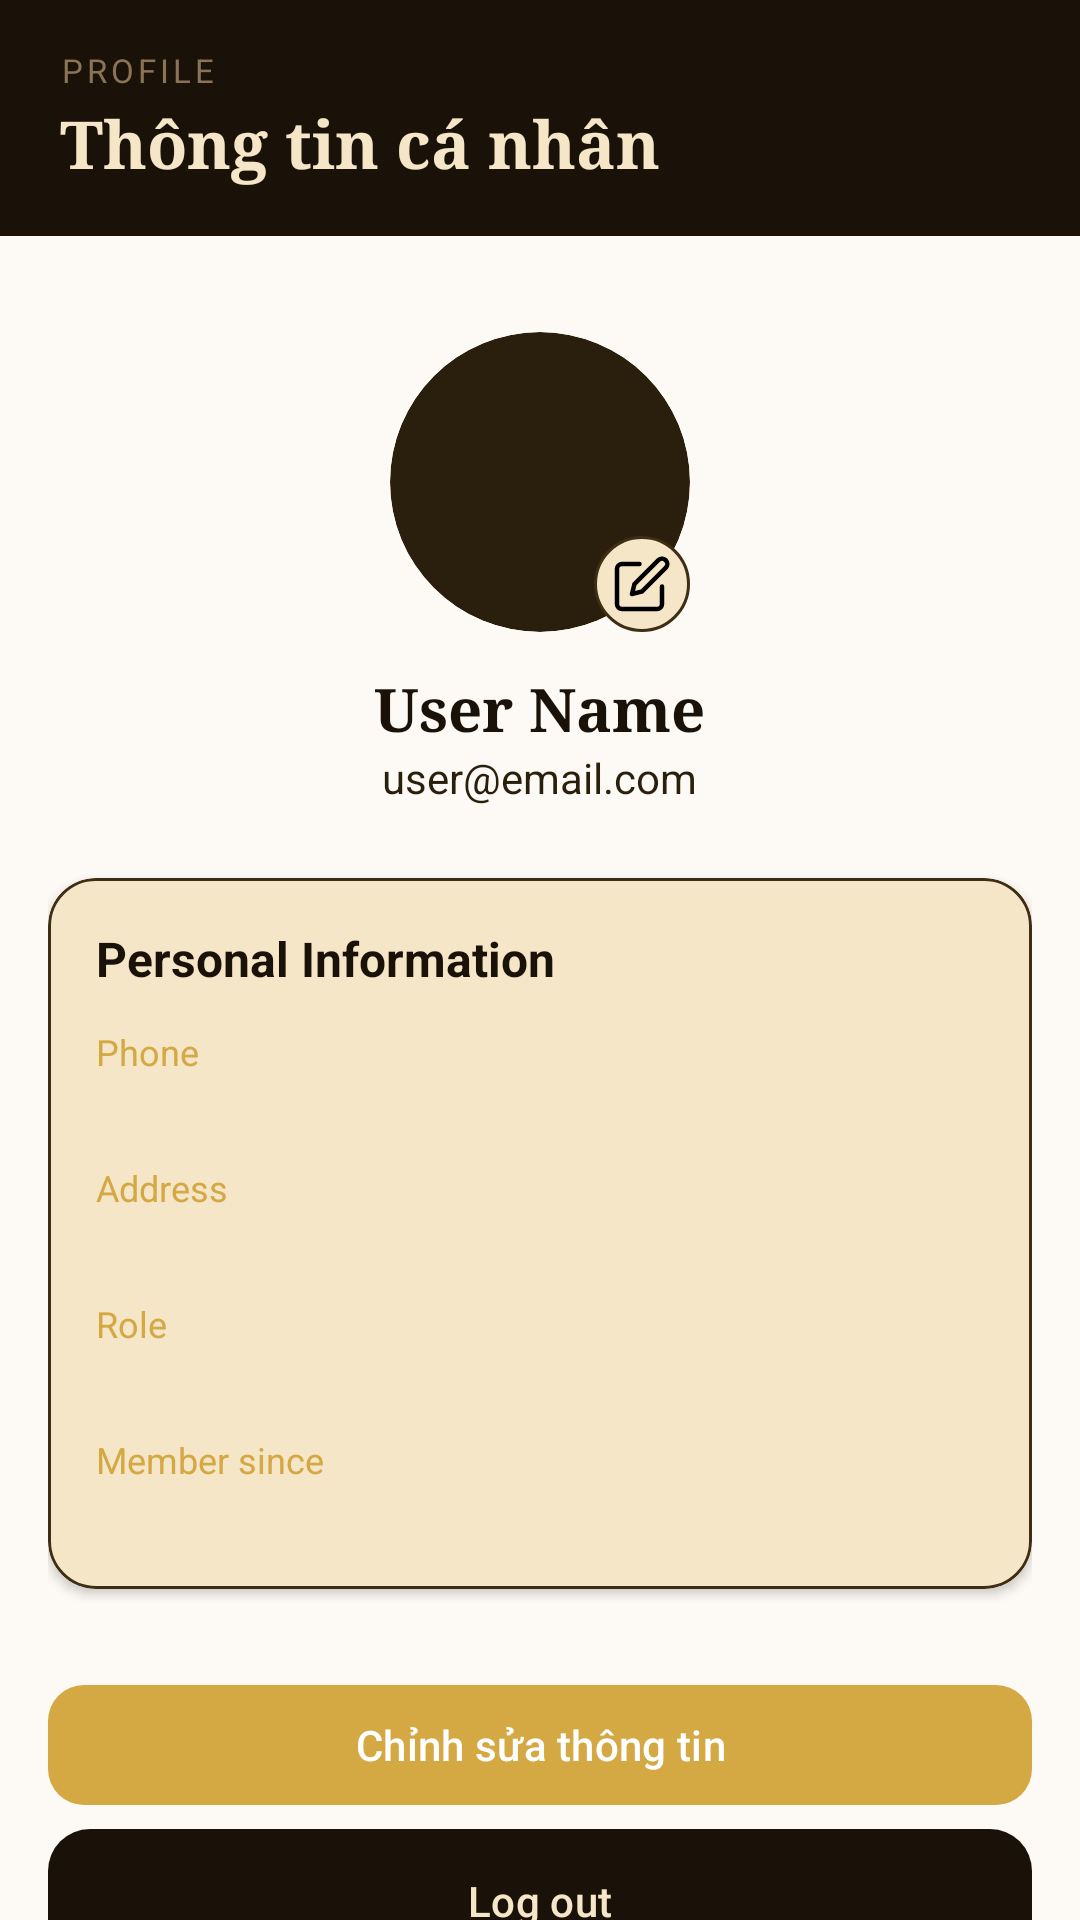

Icons on this 1080px x 1920px Android screen, each with the point to tap as point (x, y):
edit: point (642, 584)
